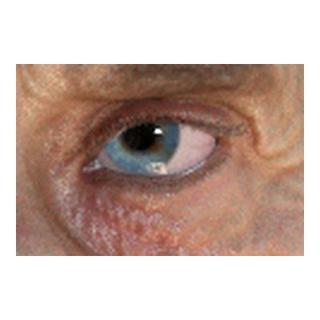pupil: (123, 118, 155, 149)
